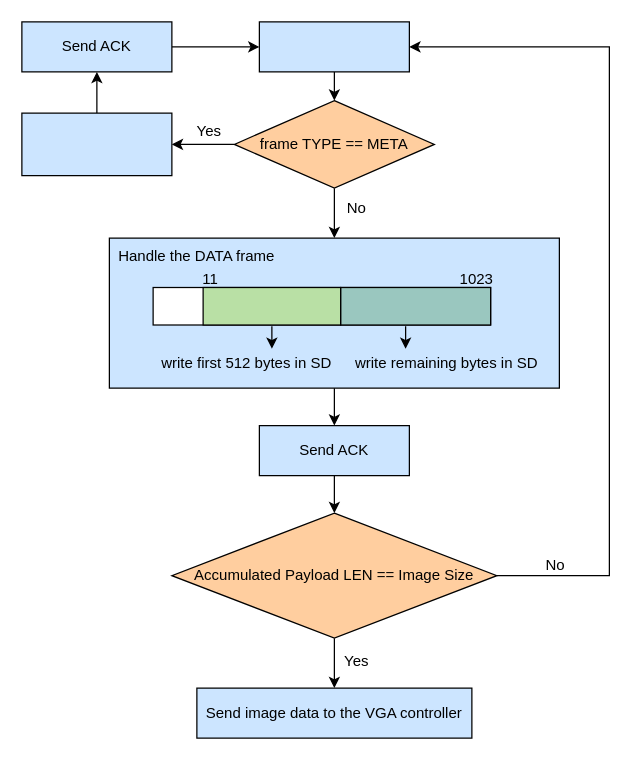
This 641x760 diagram has some shape labels left out. Here are the shapes that lost their labels. From the top down, the centre of each, then its label:
At pixel 333 46: "Receive frame".
At pixel 96 144: "Create new image file".
At pixel 271 305: "payload".
